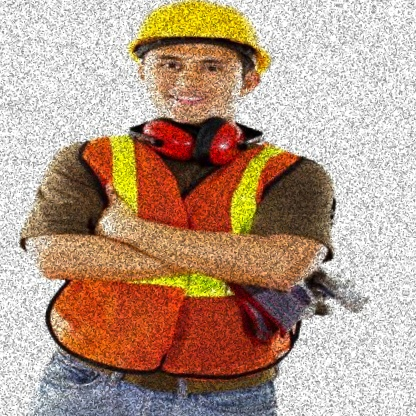vest: (30, 114, 332, 397)
yellow: (110, 0, 285, 79)
